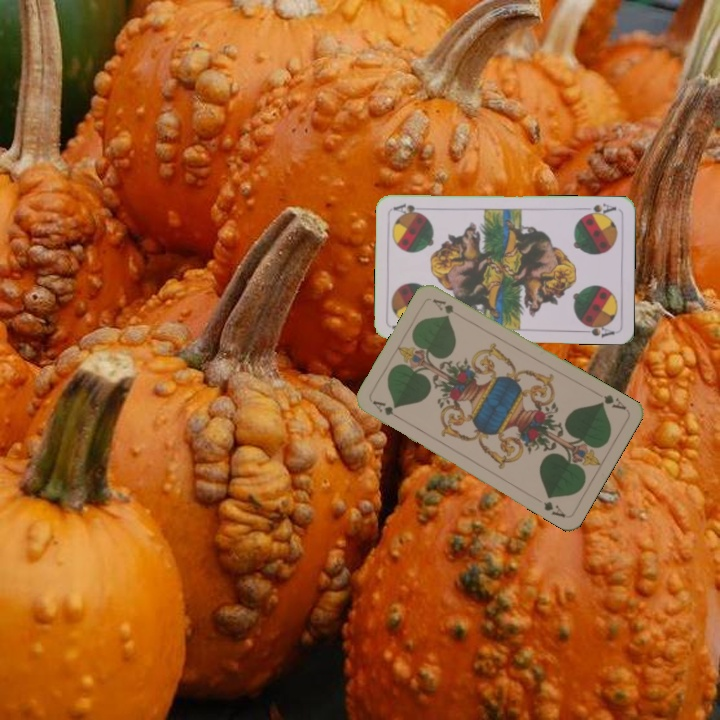GA: (368, 396, 405, 423), (591, 388, 629, 413)
SA: (579, 199, 619, 219)
